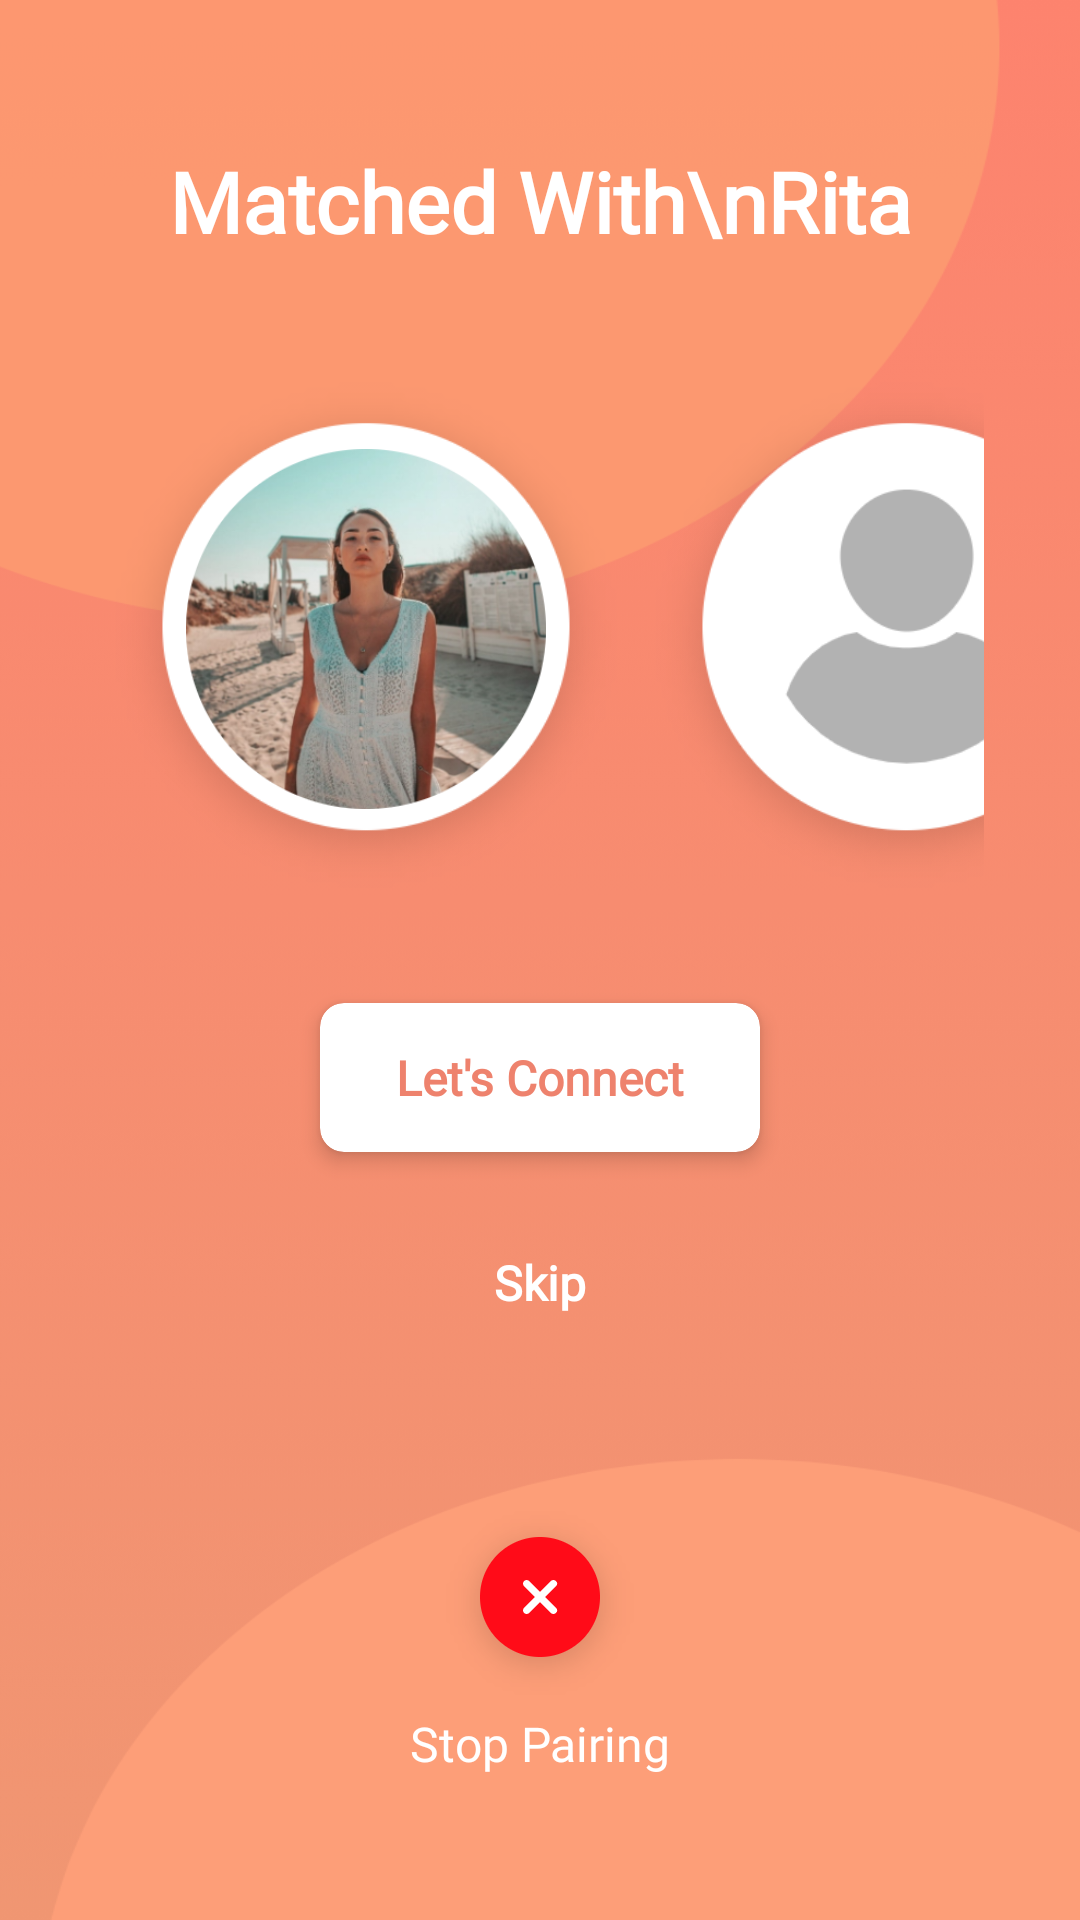

Locate icon controls on the screen. Image size 1080 × 1920, boxes as BBox(x1, y1, x2, y2).
cancel: BBox(480, 1537, 600, 1657)
